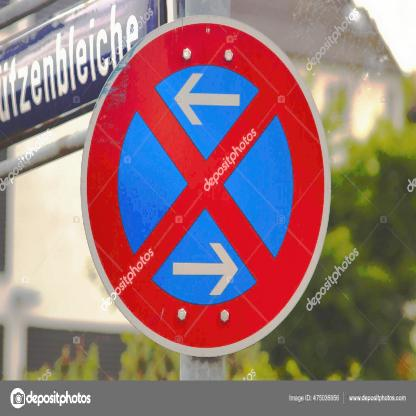No stopping: (78, 17, 341, 359)
